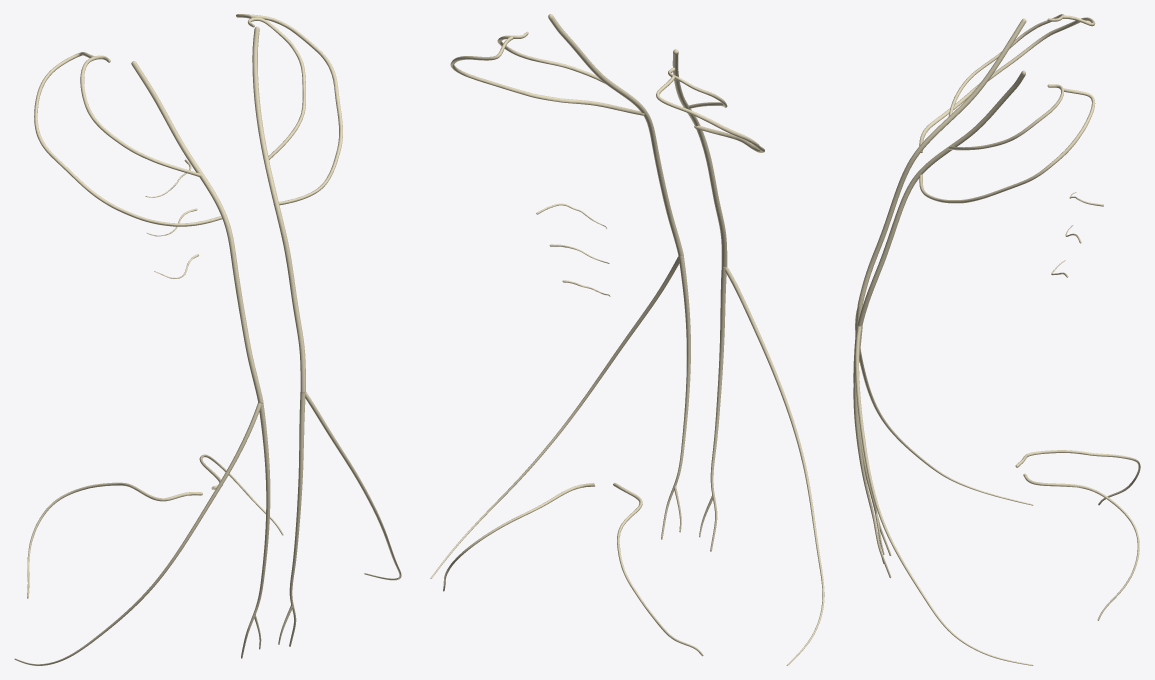
File: bodyparts3d-arterial-thoracic.glb
The picture shows the model from 3 angles, left to right: view 1: azimuth 30°, elevation 25°; view 2: azimuth 150°, elevation 25°; view 3: azimuth 270°, elevation 25°; orthographic projection. The views are drawn at different scales.
Visible parts, largest first — view 1: arterial-fma4176, arterial-fma4068, arterial-fma3969, arterial-fma10692, arterial-fma4083, arterial-fma3988, arterial-fma4077, arterial-fma4634; view 2: arterial-fma4176, arterial-fma4068, arterial-fma10692, arterial-fma4077, arterial-fma4083, arterial-fma3988, arterial-fma3969, arterial-fma4634, arterial-fma4654; view 3: arterial-fma4176, arterial-fma3969, arterial-fma4068, arterial-fma4077, arterial-fma4083, arterial-fma10692, arterial-fma4654, arterial-fma3988, arterial-fma4634.
Part boxes in pixels (x1,y1,x2,y2): arterial-fma4176: [34, 14, 342, 226]; arterial-fma4068: [252, 26, 305, 393]; arterial-fma3969: [131, 61, 263, 403]; arterial-fma10692: [14, 402, 261, 665]; arterial-fma4083: [278, 391, 305, 646]; arterial-fma3988: [241, 402, 270, 658]; arterial-fma4077: [305, 392, 401, 580]; arterial-fma4634: [27, 482, 202, 598]; arterial-fma4176: [450, 31, 764, 152]; arterial-fma4068: [548, 14, 683, 256]; arterial-fma10692: [725, 266, 824, 665]; arterial-fma4077: [430, 257, 679, 578]; arterial-fma4083: [661, 256, 690, 539]; arterial-fma3988: [699, 266, 726, 551]; arterial-fma3969: [672, 49, 727, 266]; arterial-fma4634: [613, 483, 703, 656]; arterial-fma4654: [443, 483, 595, 591]; arterial-fma4176: [919, 14, 1095, 203]; arterial-fma3969: [857, 18, 1026, 306]; arterial-fma4068: [857, 70, 1025, 326]; arterial-fma4077: [855, 326, 1033, 665]; arterial-fma4083: [853, 325, 891, 577]; arterial-fma10692: [855, 307, 1033, 505]; arterial-fma4654: [1023, 473, 1139, 620]; arterial-fma3988: [853, 305, 891, 555]; arterial-fma4634: [1015, 450, 1140, 505].
Size of the model in its own units: 0.228 by 0.356 by 0.1704.
